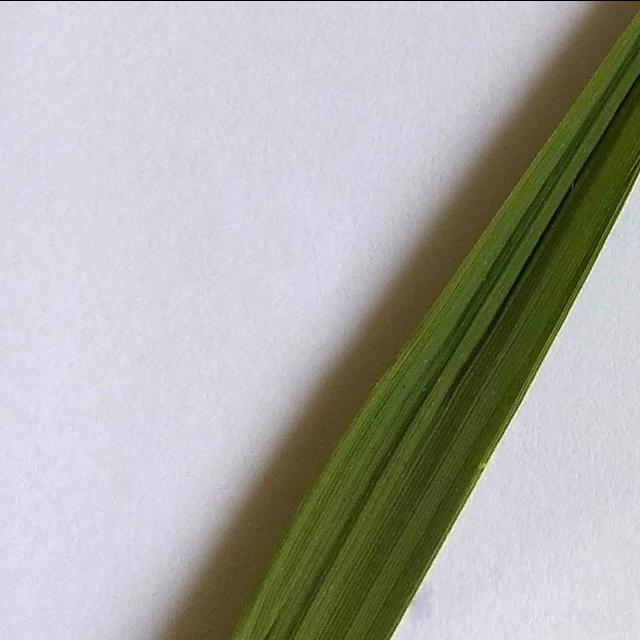healthy: (222, 0, 640, 640)
